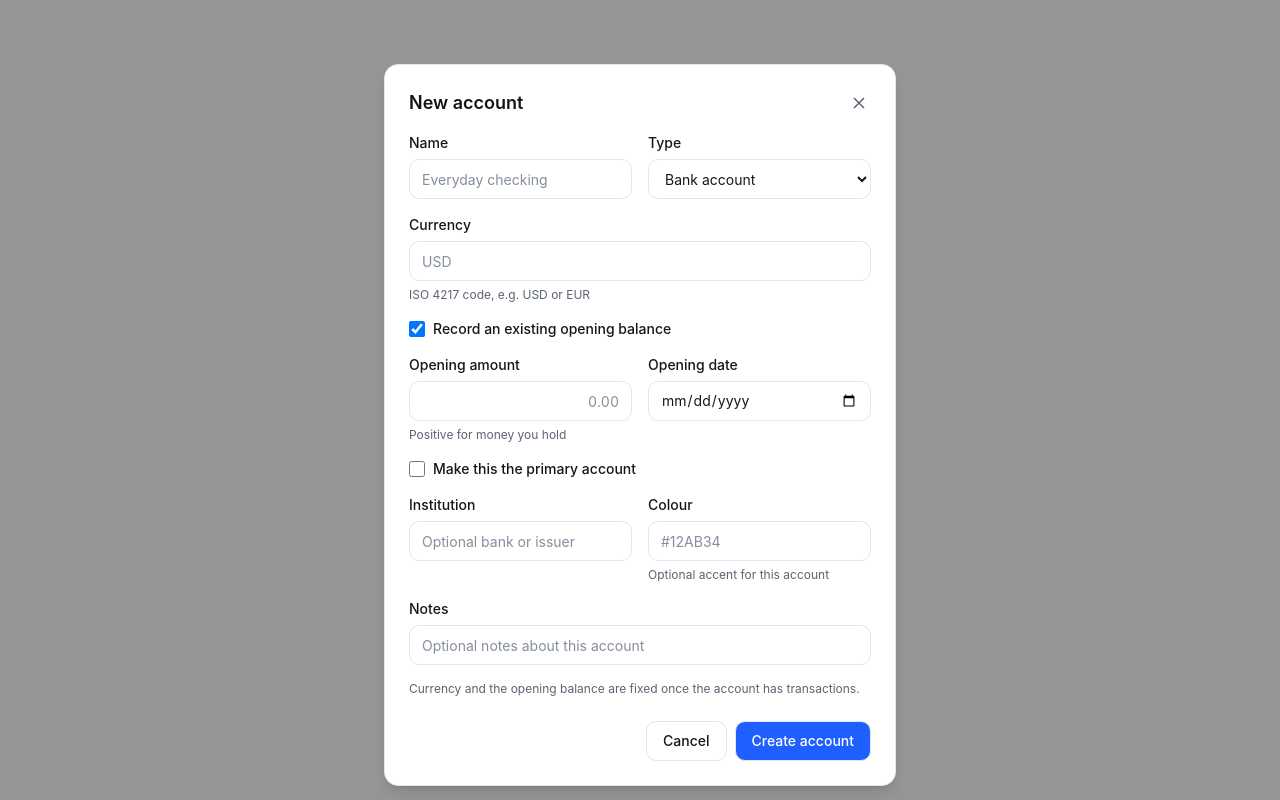
Test: AccountFormModal › falls back to a toast with the backend message for unmapped errors
In the field labelled "Name": (520, 179) [409,159,632,199], type "Check-in"
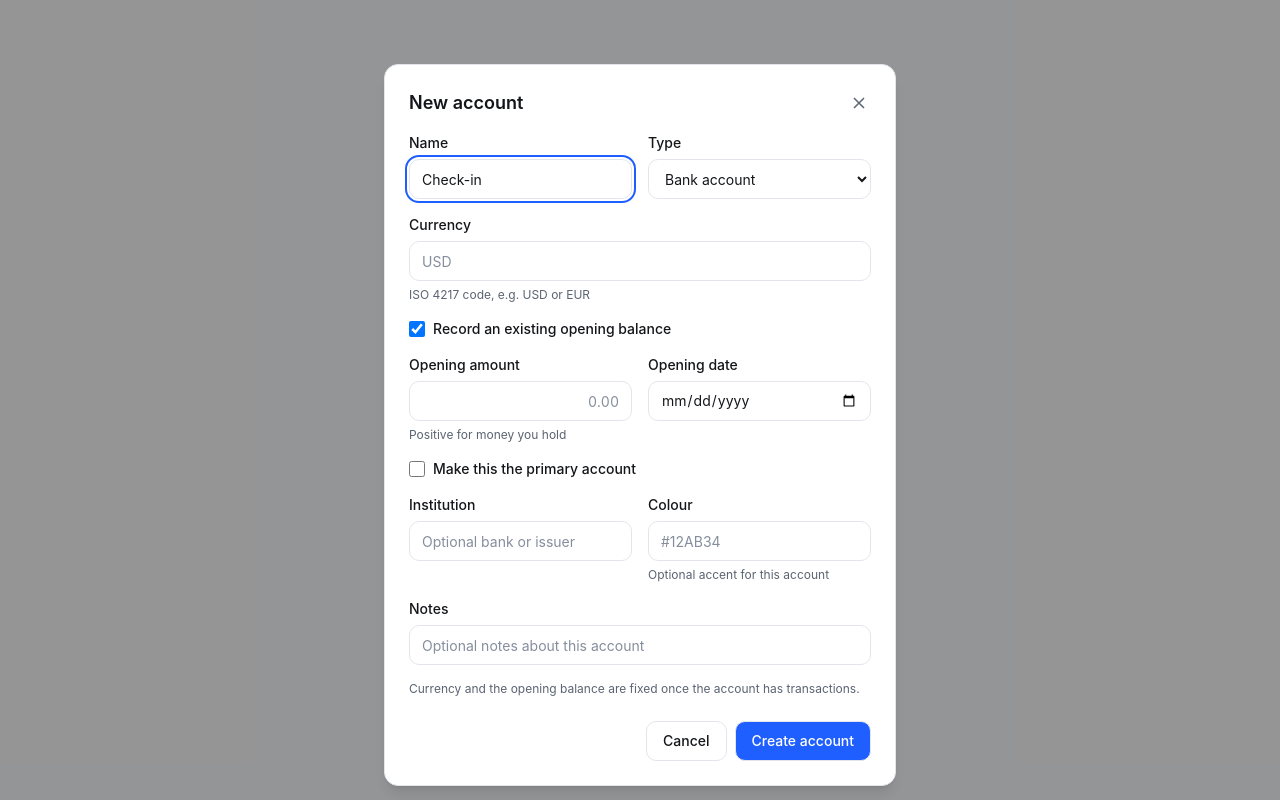
In the field labelled "Currency": (640, 261) [409,241,871,281], type "INR"
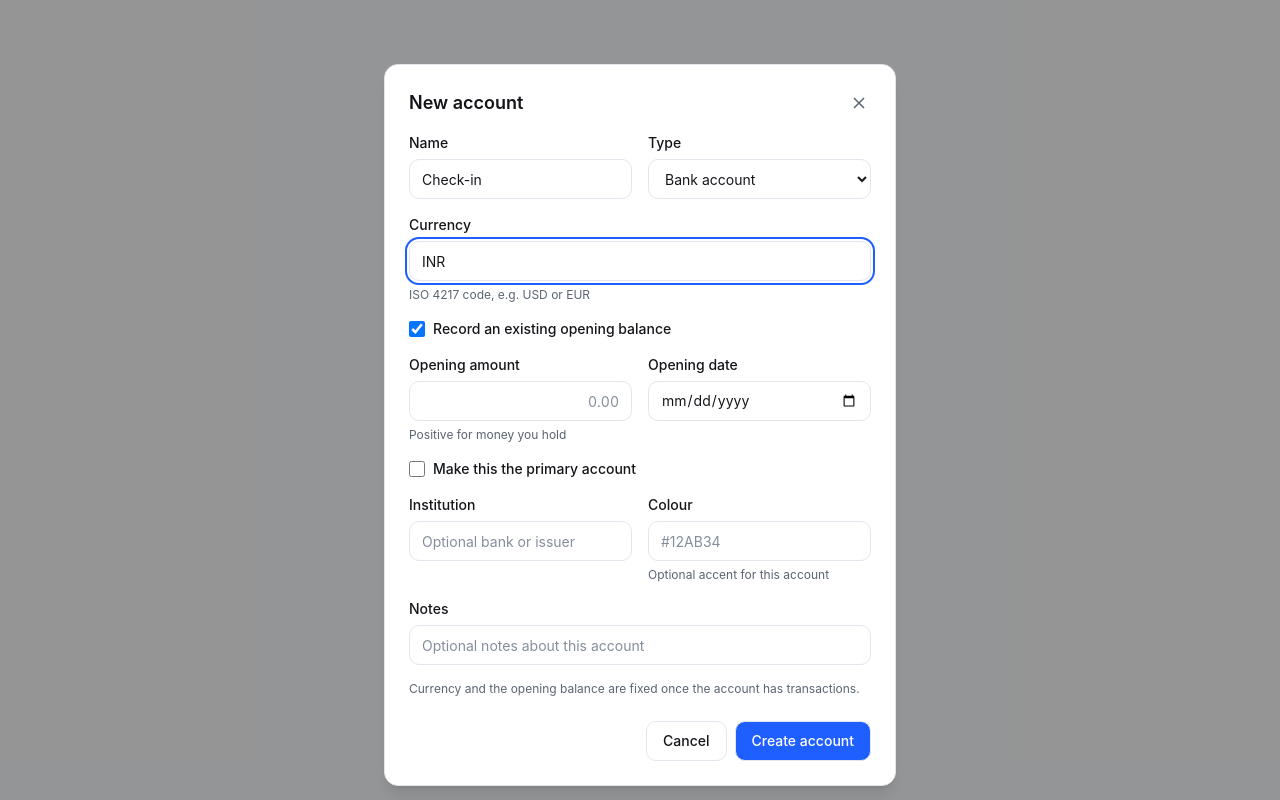
In the field labelled "Opening amount": (520, 401) [409,381,632,421], type "0"
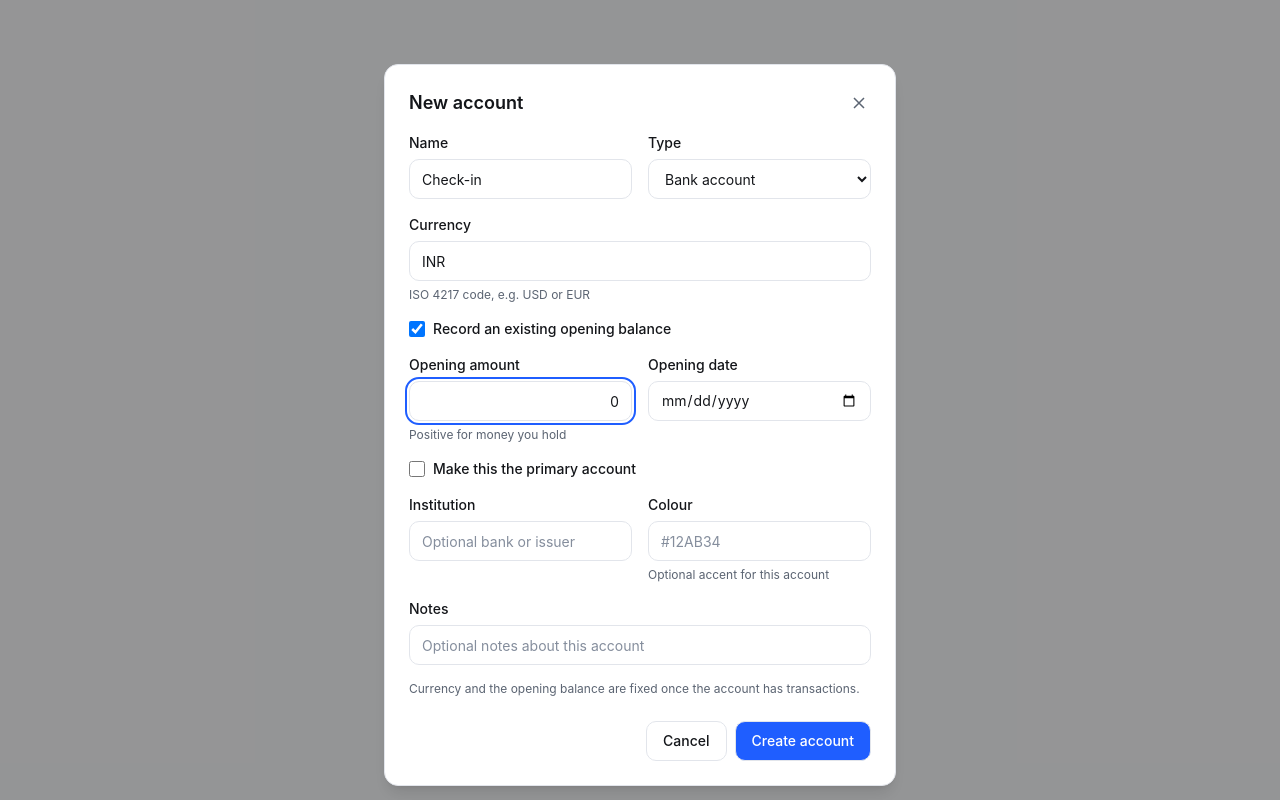
Click the button "Create account": (803, 741) [734,721,871,761]
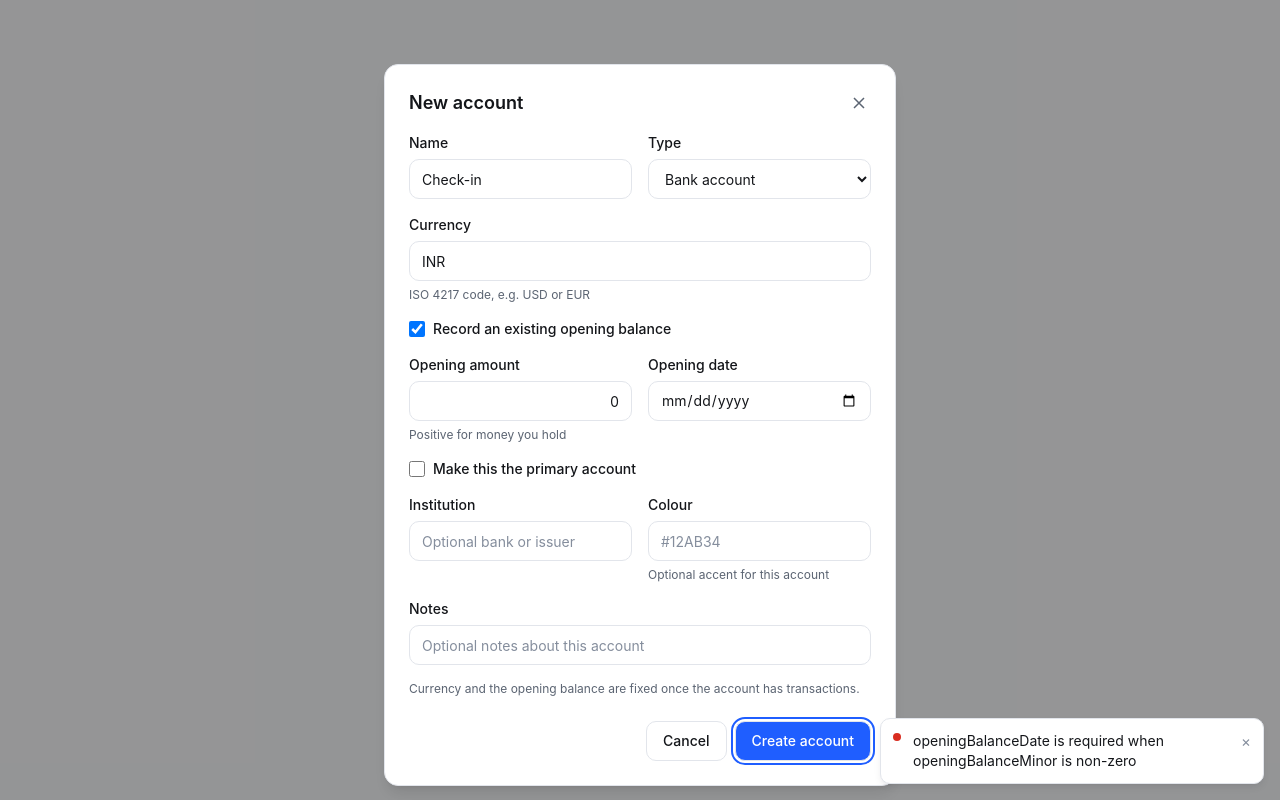
Expected: the text "openingBalanceDate is required when openingBalanceMinor is non-zero" is shown, [913,732,1164,769]
